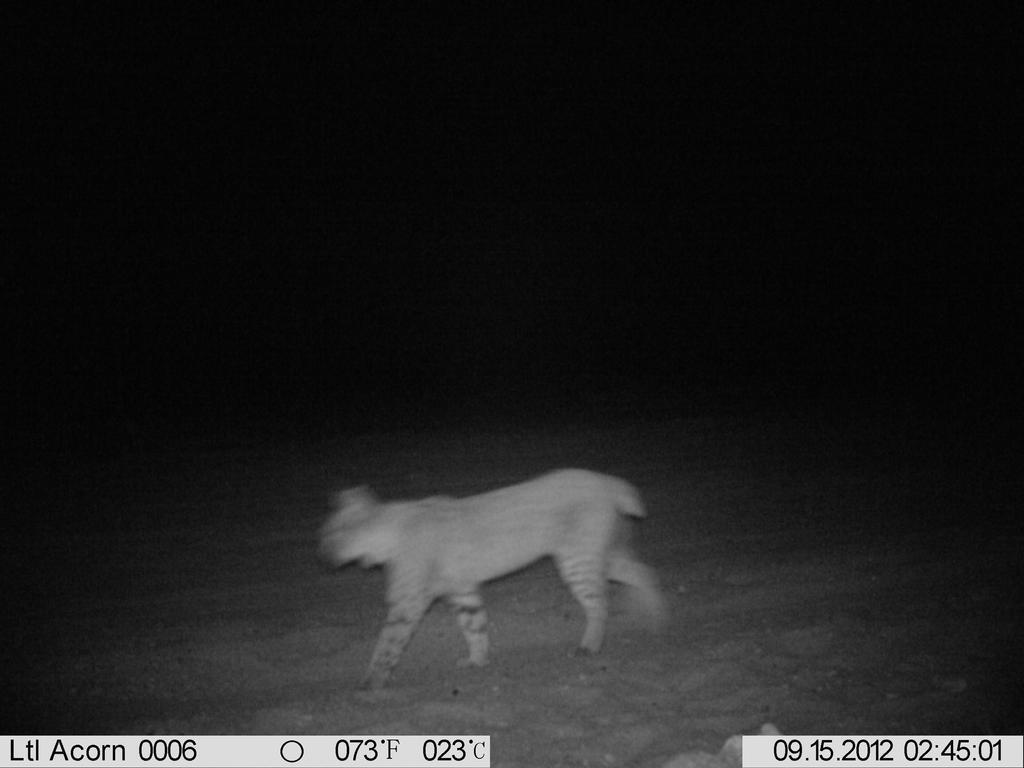bobcat: (310, 461, 683, 698)
